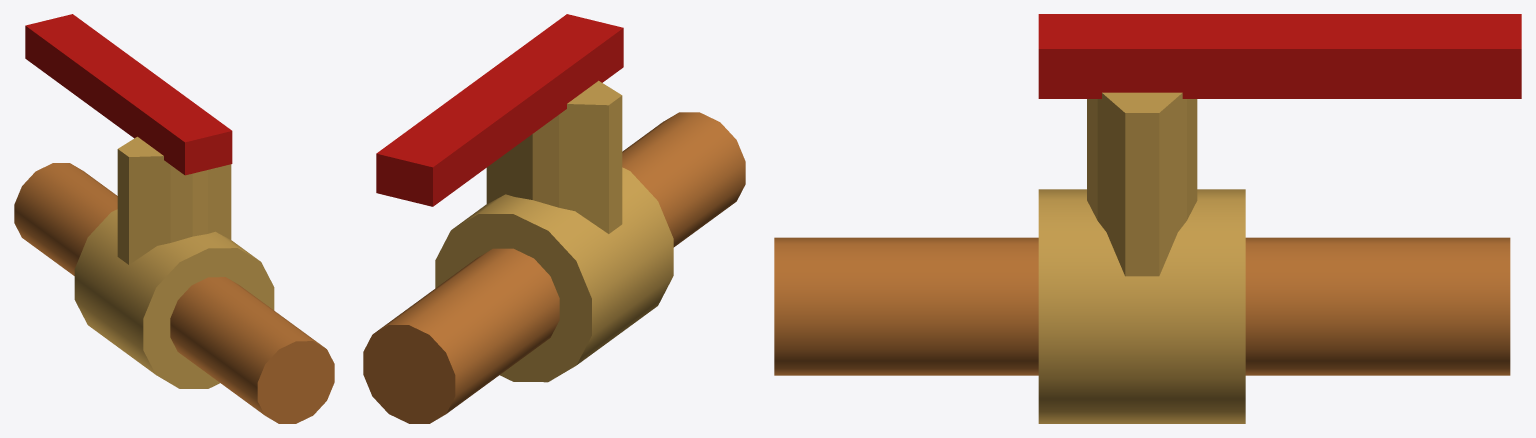
Rendered from services.pipe.valve_15.glb.
3 views of the same model, side by side, from view 1: azimuth 30°, elevation 25°; view 2: azimuth 150°, elevation 25°; view 3: azimuth 270°, elevation 25° (orthographic). The views are drawn at different scales.
Visible parts, largest first — view 1: main__brass, main__copper, main__plastic_red; view 2: main__brass, main__copper, main__plastic_red; view 3: main__copper, main__brass, main__plastic_red.
Boxes of the visible parts, bbox=[...] form: main__brass: bbox=[74, 136, 274, 388]; main__copper: bbox=[14, 163, 334, 423]; main__plastic_red: bbox=[25, 14, 232, 175]; main__brass: bbox=[435, 80, 673, 382]; main__copper: bbox=[363, 112, 745, 423]; main__plastic_red: bbox=[376, 14, 623, 206]; main__copper: bbox=[774, 237, 1510, 375]; main__brass: bbox=[1038, 92, 1245, 423]; main__plastic_red: bbox=[1038, 14, 1521, 98].
Size of the model in its own units: 0.0249 by 0.0458 by 0.0812.
